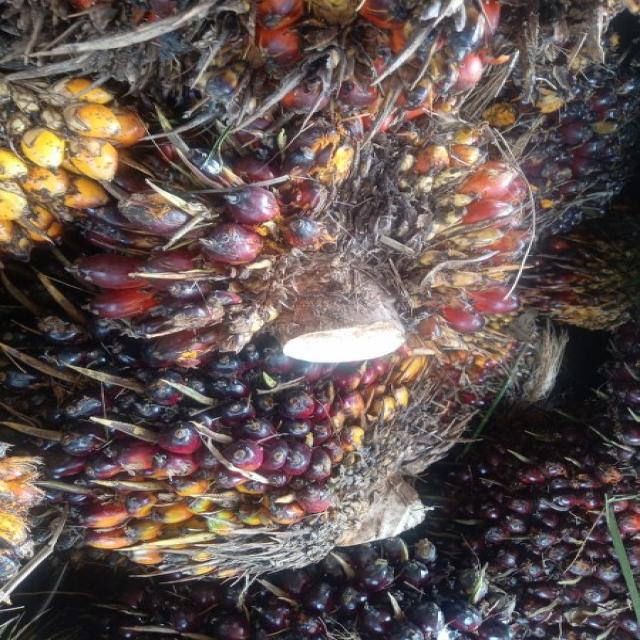fraksi 1: (94, 88, 524, 572)
